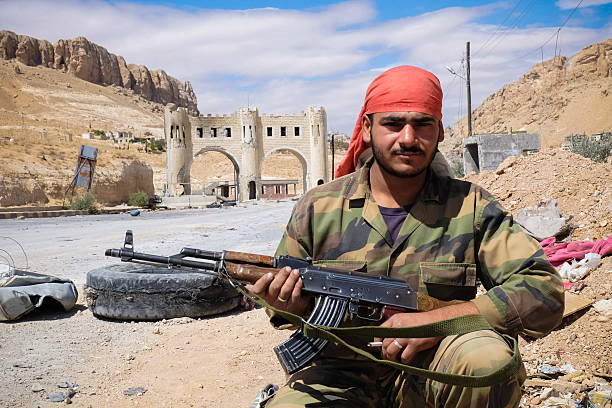terrorist: (323, 50, 492, 197)
